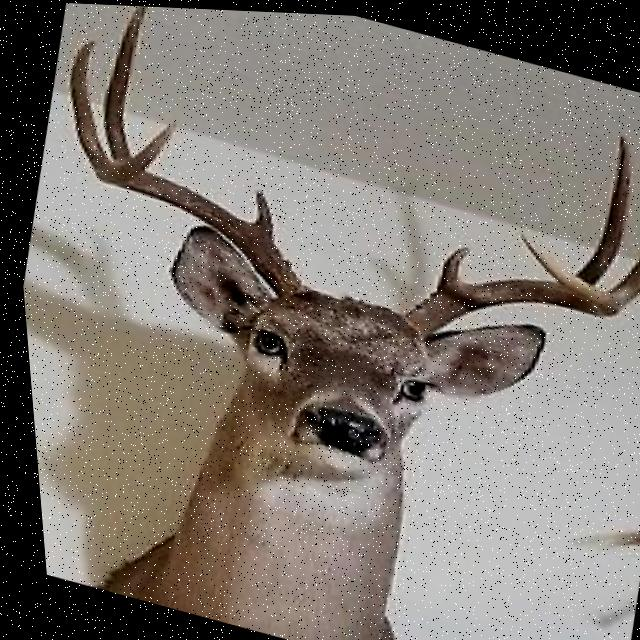L-F: (93, 120, 306, 296)
L-G1: (244, 186, 270, 241)
L-G2: (100, 5, 151, 162)
L-G3: (68, 37, 107, 173)
R-F: (398, 224, 615, 336)
R-G1: (432, 242, 469, 286)
R-G3: (598, 244, 640, 303)
